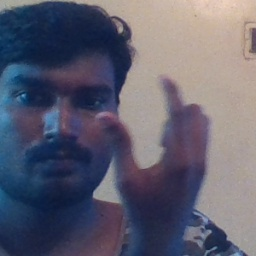U: (99, 72, 216, 213)
